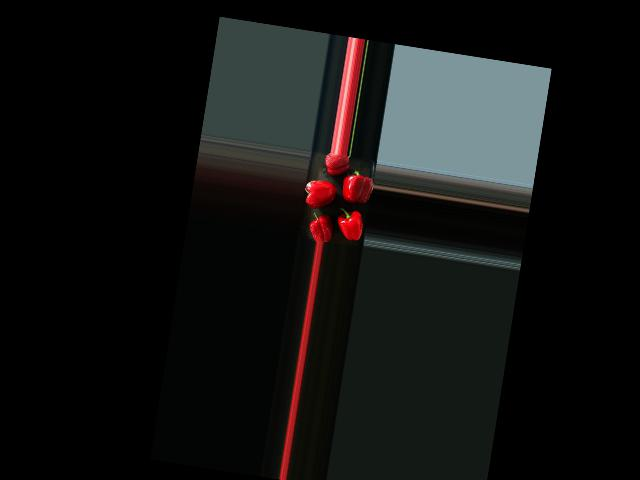bell_pepper: (318, 152, 352, 178)
